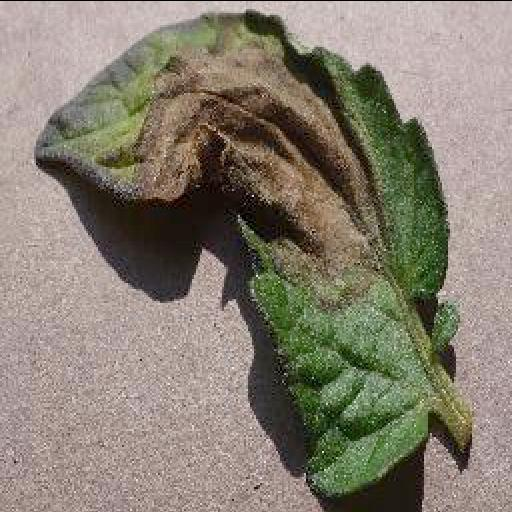disease_tomato: (36, 8, 466, 492)
